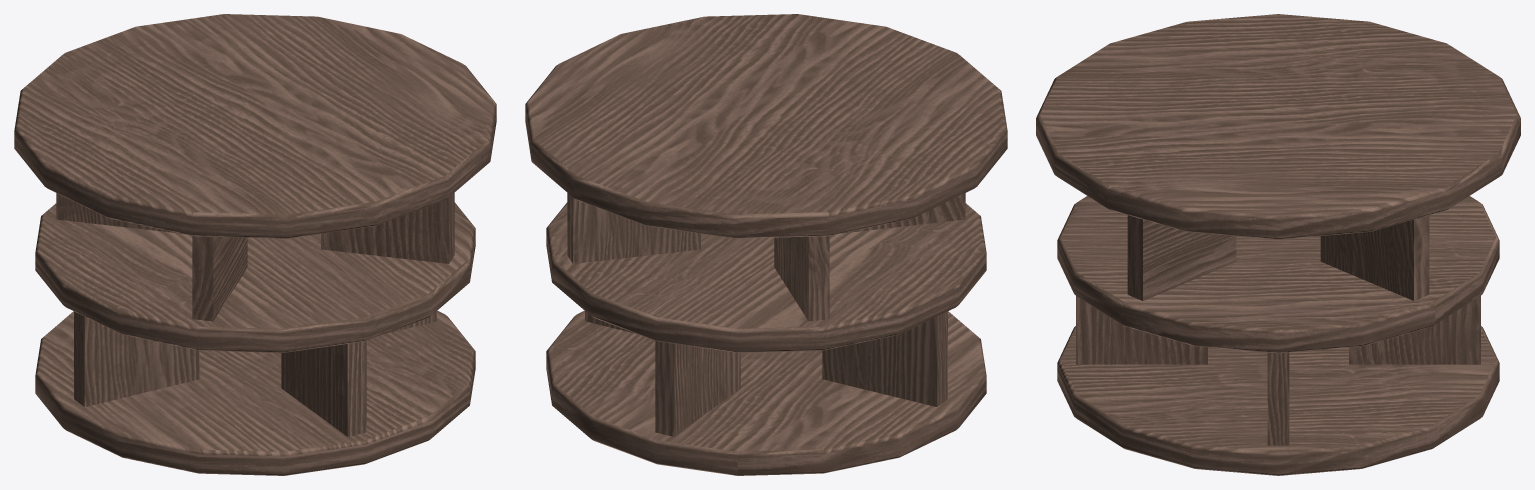
The model's file is coffee_table_004.fbx.
3 renders of one model, left to right at view 1: azimuth 30°, elevation 25°; view 2: azimuth 150°, elevation 25°; view 3: azimuth 270°, elevation 25°, orthographic.
Visible parts, largest first — view 1: coffee_table_004; view 2: coffee_table_004; view 3: coffee_table_004.
Part boxes in pixels (left/top/right/bottom): coffee_table_004: left=14, top=14, right=496, bottom=475; coffee_table_004: left=525, top=14, right=1007, bottom=475; coffee_table_004: left=1036, top=14, right=1520, bottom=475.
Bounding box in the file's own units: 108 × 108 × 66.04.
